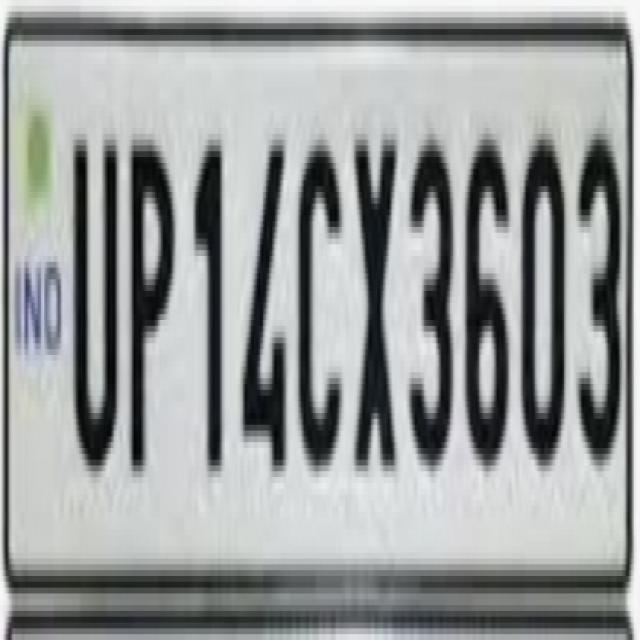0: (517, 107, 571, 472), (573, 114, 623, 470)
1: (190, 112, 230, 480)
3: (406, 112, 460, 483)
4: (238, 129, 290, 485)
6: (456, 143, 512, 476)
C: (296, 144, 342, 472)
P: (124, 124, 176, 479)
U: (72, 100, 121, 483)
X: (352, 114, 400, 504)
